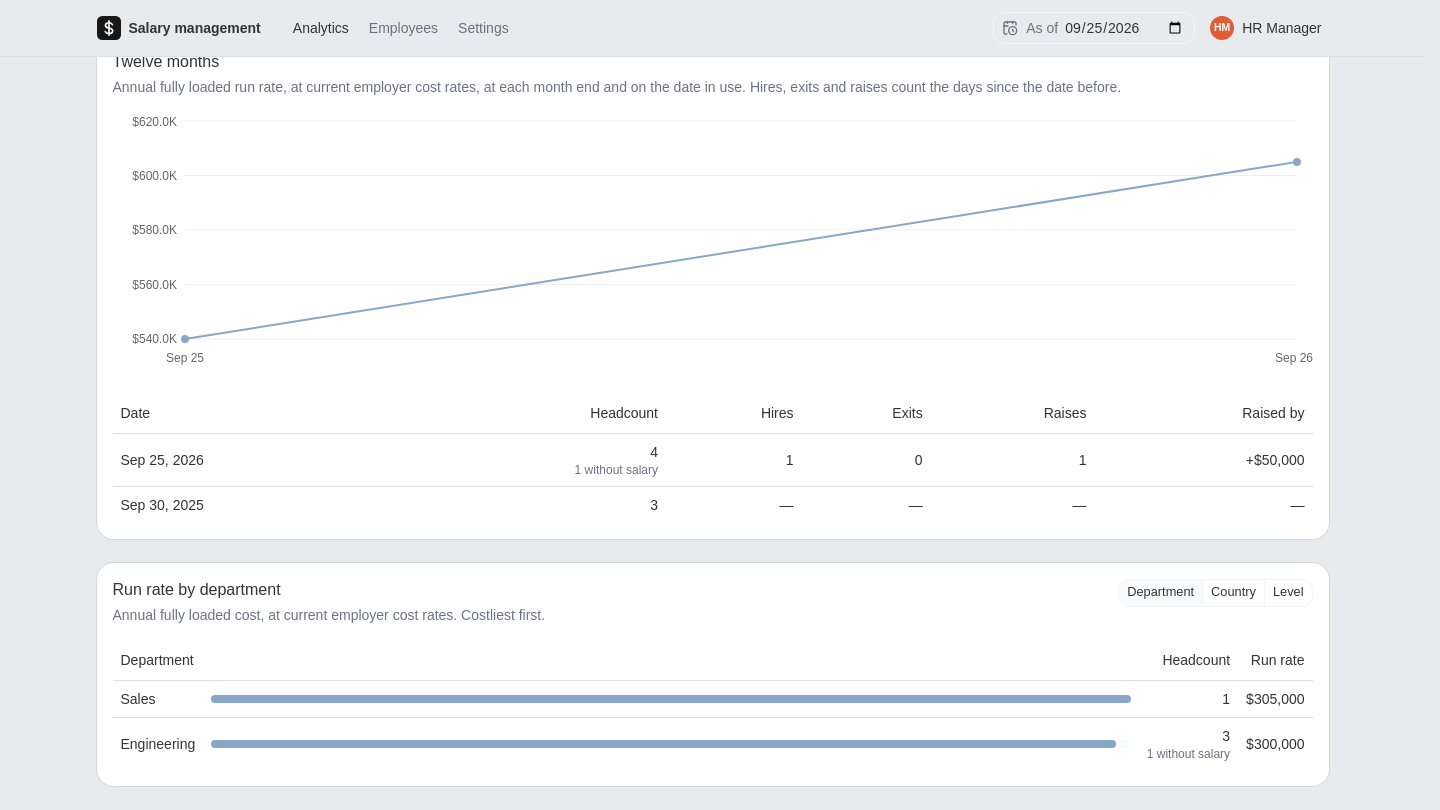
Test case: analytics overview › shows an error when a reload fails, not the previous figures
This screenshot has width=1440, height=810.
(page scrolled)
expect the link "Engineering" is shown: met, box [120, 736, 195, 752]
Click the radio button labelled "Level" at (1289, 592), box [1265, 578, 1312, 606]
(page scrolled)
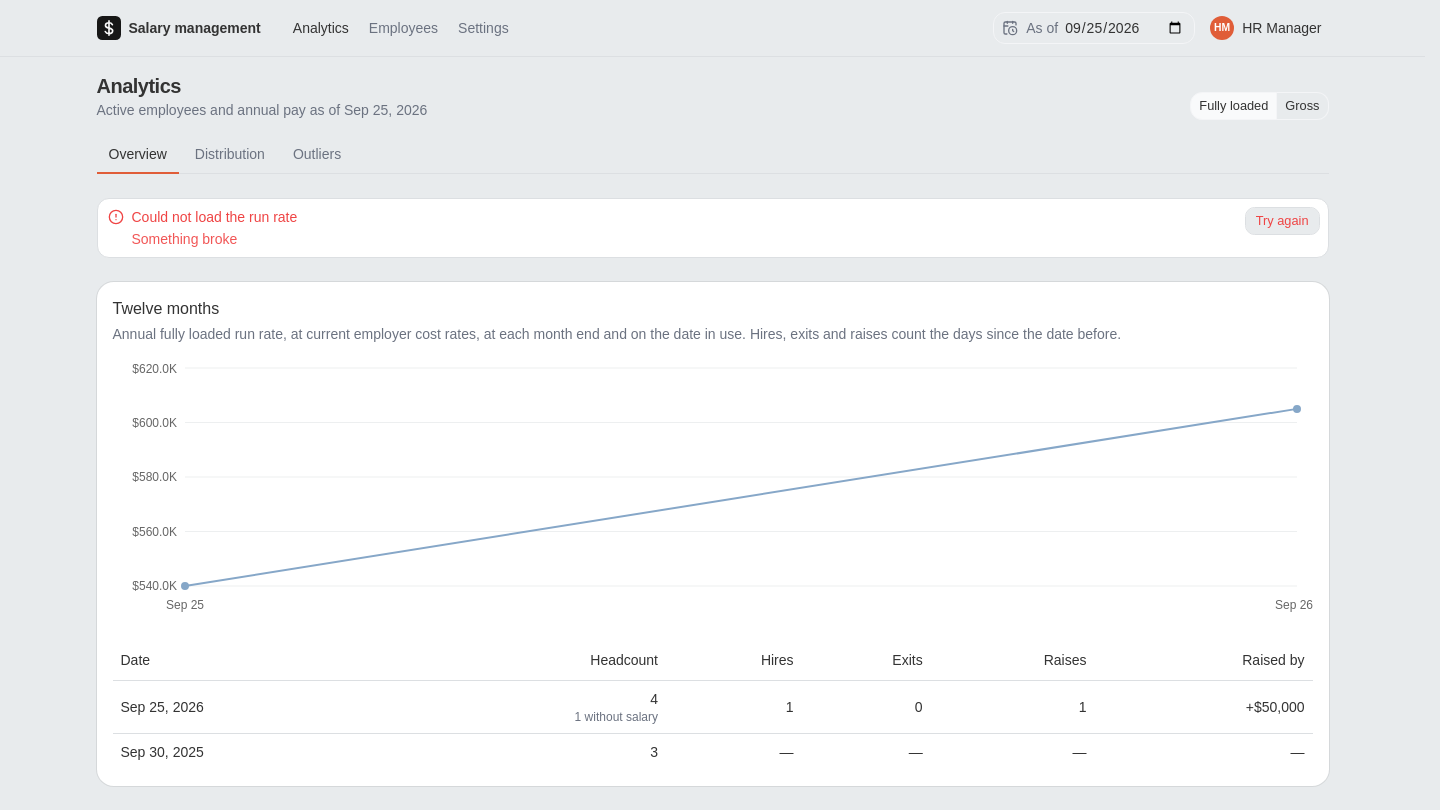
expect the text "Could not load the run rate" is shown: met, box [132, 209, 297, 225]
